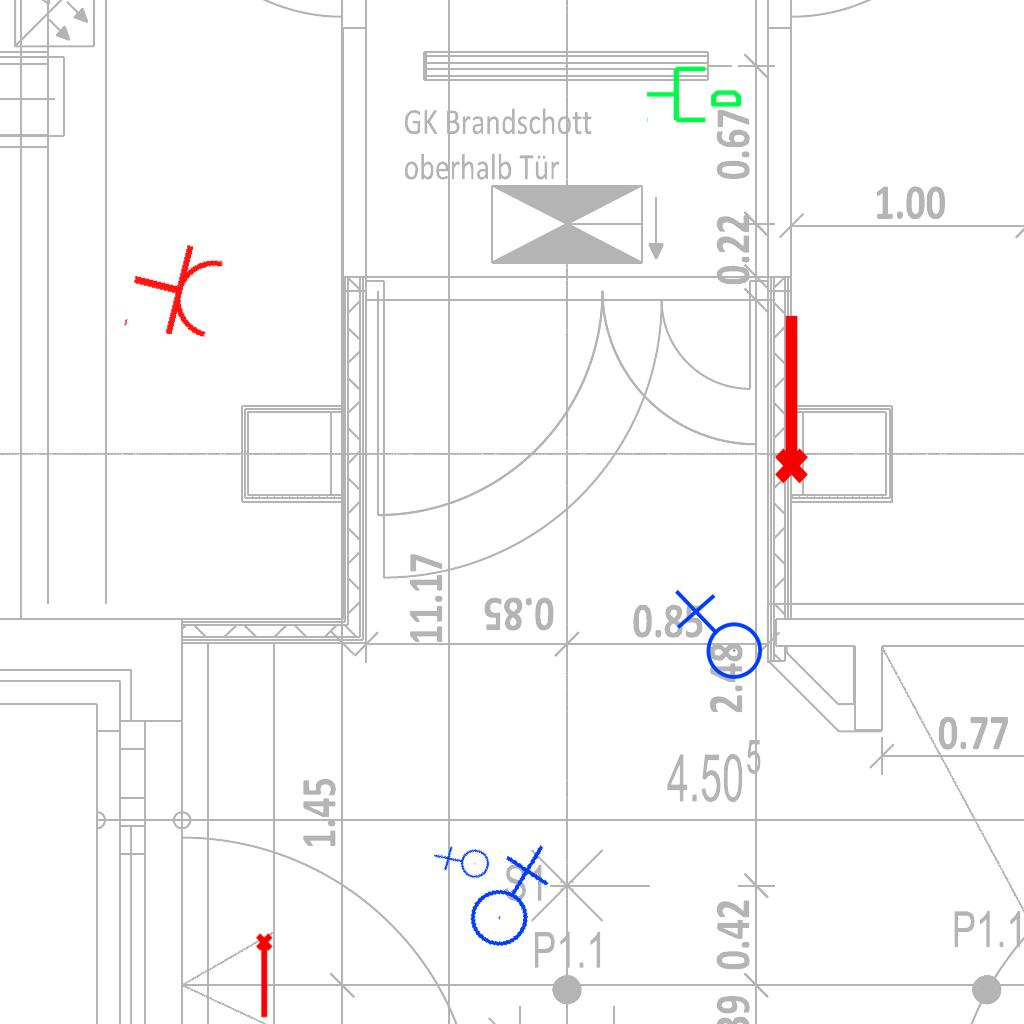ASR_Ansaugoeffnung: (766, 310, 812, 486), (254, 932, 277, 1020)
Datenanschluss_einfach: (644, 58, 744, 127)
Elektroanschluss_allgemein_230V_Geraeteanschlussdose_230V: (446, 839, 567, 957), (670, 589, 764, 688), (431, 830, 498, 897)
Schukosteckdose_einfach: (120, 231, 229, 351)
